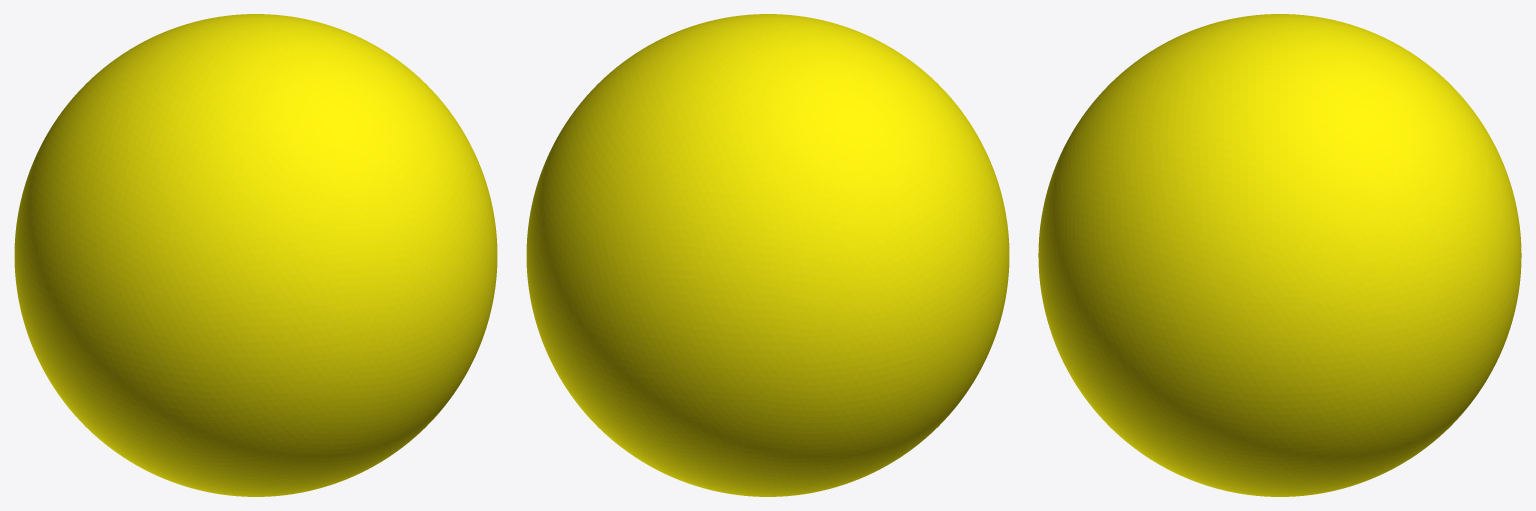
The picture shows the model from 3 angles, left to right: view 1: azimuth 30°, elevation 25°; view 2: azimuth 150°, elevation 25°; view 3: azimuth 270°, elevation 25°; orthographic projection.
Visible parts, largest first — view 1: Sphere; view 2: Sphere; view 3: Sphere.
Boxes of the visible parts, left/top/right/bottom form: Sphere: left=14, top=14, right=497, bottom=496; Sphere: left=526, top=14, right=1009, bottom=496; Sphere: left=1038, top=14, right=1521, bottom=496.
Size of the model in its own units: 0.5379 by 0.5379 by 0.5379.
